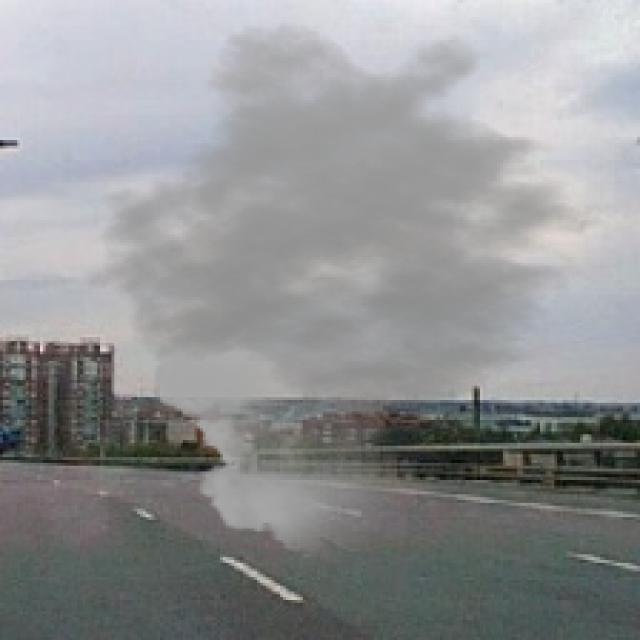Smoke: (83, 20, 632, 560)
